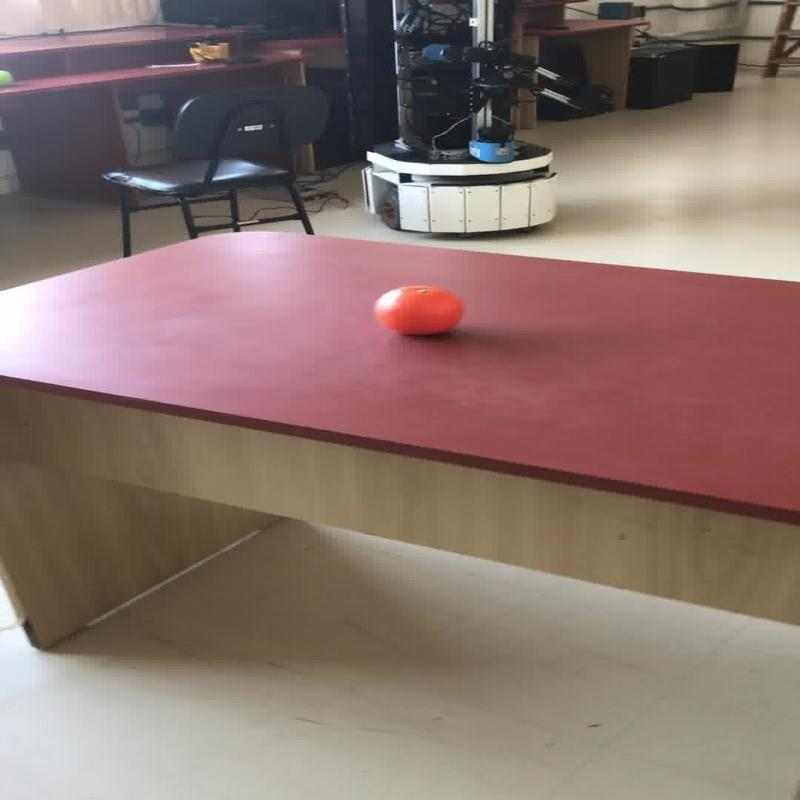orange: (372, 284, 462, 335)
